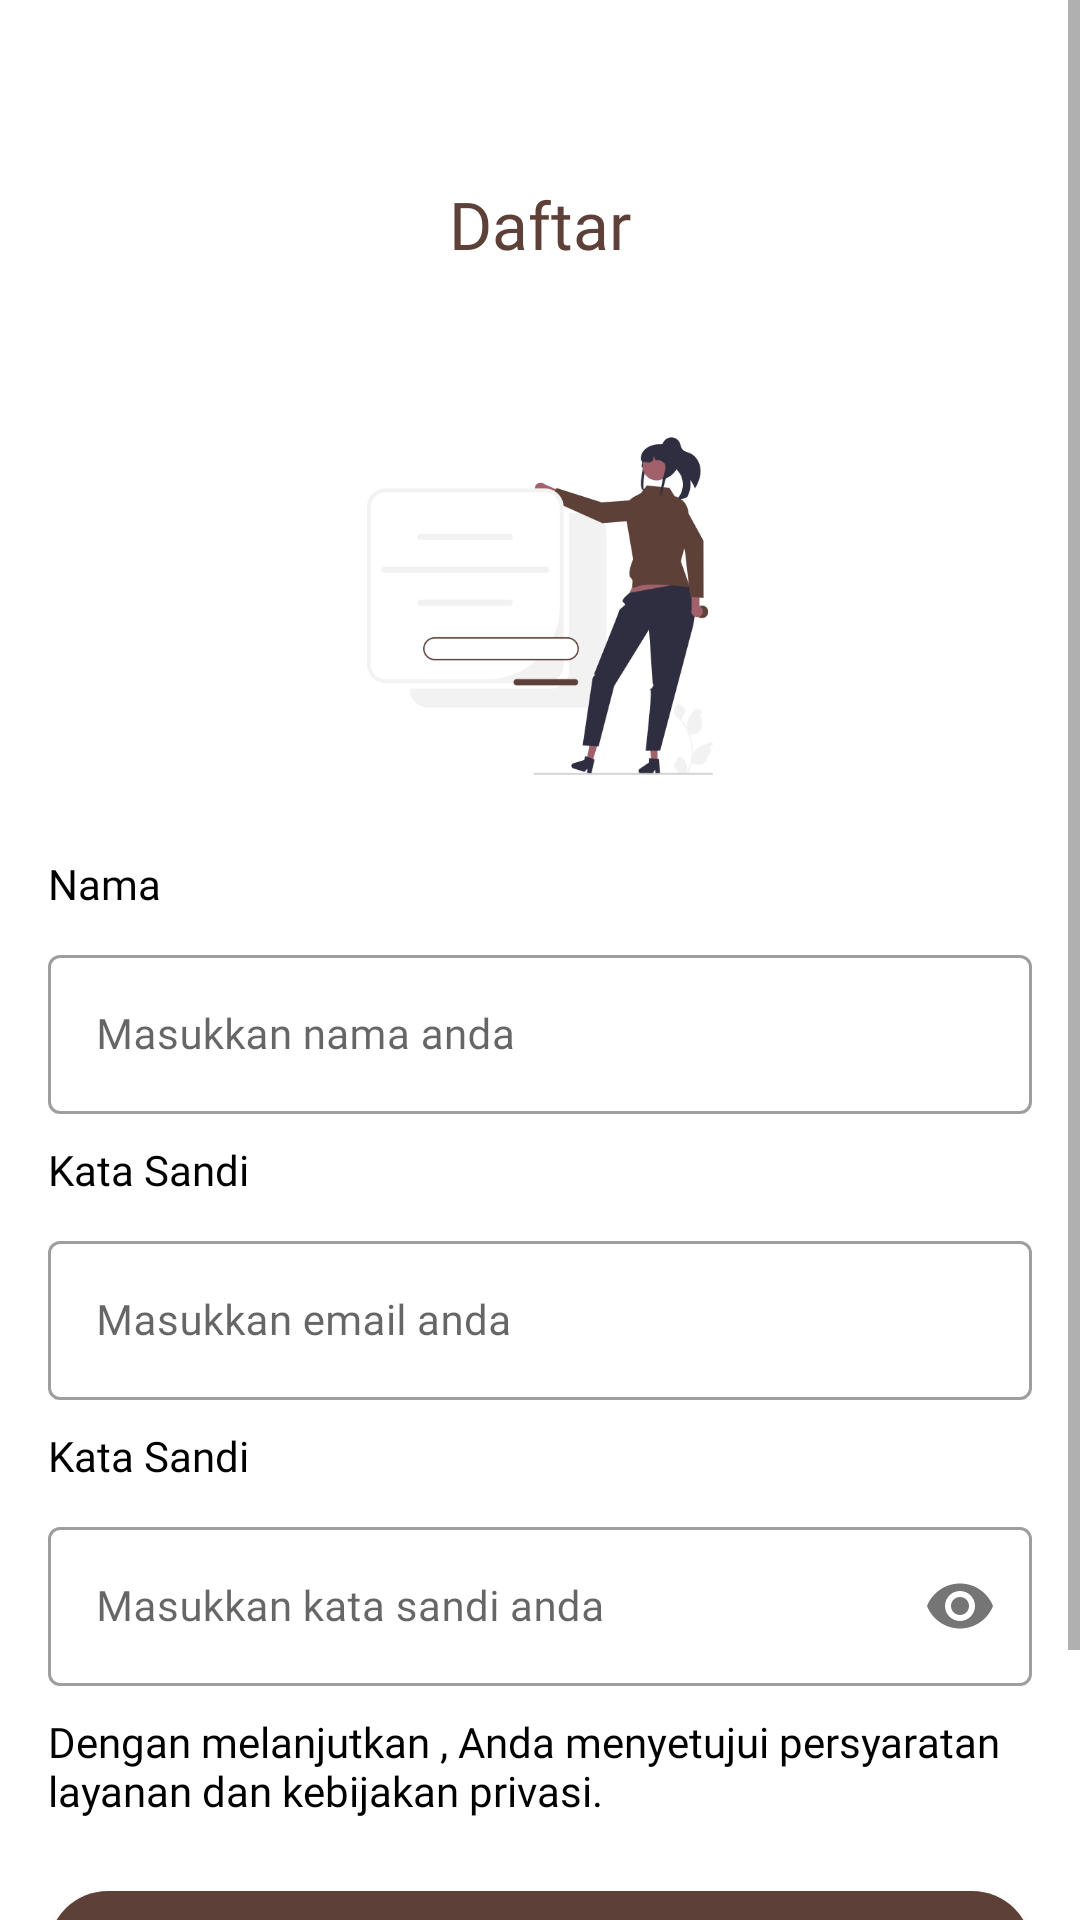

Where to tap for icons on this 1080px×1920px app screen, as point (x, y):
register illustration: point (568, 606)
